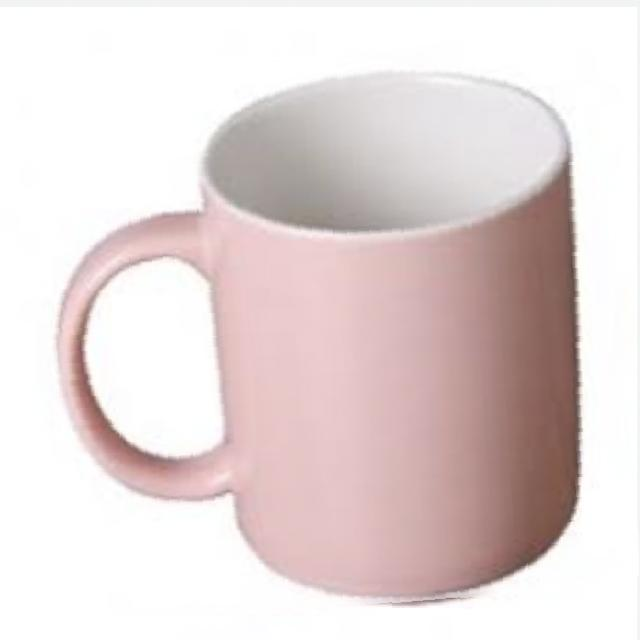recyclable: (33, 41, 631, 614)
